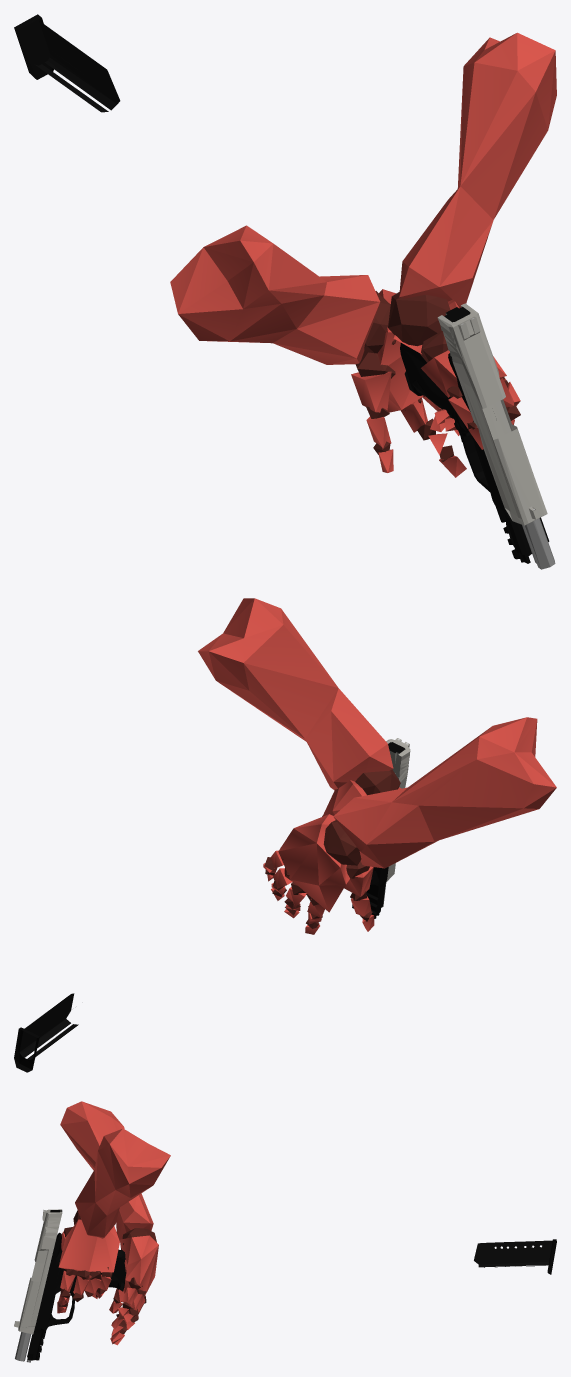
File: M&P9reloadNormal1lowP_000140.obj
3 views of the same model, one above another, from view 1: azimuth 30°, elevation 25°; view 2: azimuth 150°, elevation 25°; view 3: azimuth 270°, elevation 25° (orthographic). The views are drawn at different scales.
Visible parts, largest first — view 1: Beta_Surface.001_Beta_Surface.002, slide_平面.002, Beta_Joints.001_Beta_Joints.002, triger_平面.001, magazine_平面.003; view 2: Beta_Surface.001_Beta_Surface.002, Beta_Joints.001_Beta_Joints.002, magazine_平面.003, slide_平面.002, triger_平面.001; view 3: Beta_Surface.001_Beta_Surface.002, triger_平面.001, slide_平面.002, magazine_平面.003, Beta_Joints.001_Beta_Joints.002.
Part boxes in pixels (box(x1,y1,x2,y2)): Beta_Surface.001_Beta_Surface.002: box(170, 32, 556, 477); slide_平面.002: box(437, 303, 547, 525); Beta_Joints.001_Beta_Joints.002: box(355, 291, 520, 462); triger_平面.001: box(400, 343, 555, 569); magazine_平面.003: box(14, 14, 120, 112); Beta_Surface.001_Beta_Surface.002: box(198, 598, 556, 934); Beta_Joints.001_Beta_Joints.002: box(264, 769, 400, 928); magazine_平面.003: box(14, 993, 78, 1072); slide_平面.002: box(386, 738, 410, 882); triger_平面.001: box(352, 867, 388, 918); Beta_Surface.001_Beta_Surface.002: box(57, 1101, 170, 1345); triger_平面.001: box(15, 1232, 125, 1362); slide_平面.002: box(14, 1209, 62, 1334); magazine_平面.003: box(474, 1239, 556, 1274); Beta_Joints.001_Beta_Joints.002: box(57, 1210, 156, 1334).
Size of the model in its own units: 66.88 by 70.66 by 139.
